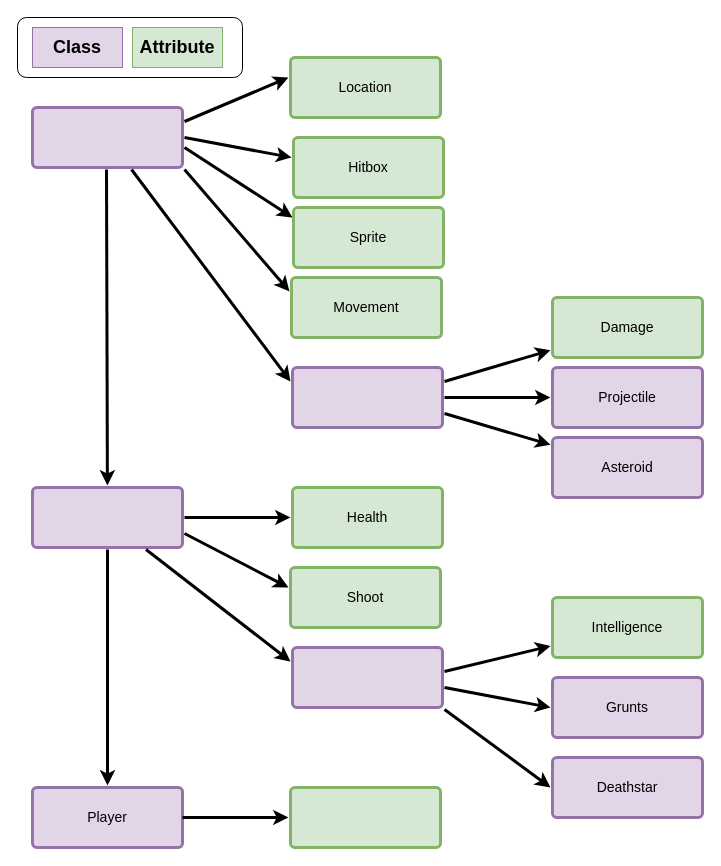
The diagram is 721 pixels wide and 866 high, and some of its shapes have lost their labels. Here are the shapes that lost their labels. From the top down, the centre of each, then its label:
At (x=107, y=137): "Entity".
At (x=367, y=397): "Object".
At (x=107, y=517): "Actor".
At (x=367, y=677): "Enemy".
At (x=365, y=817): "Input".
